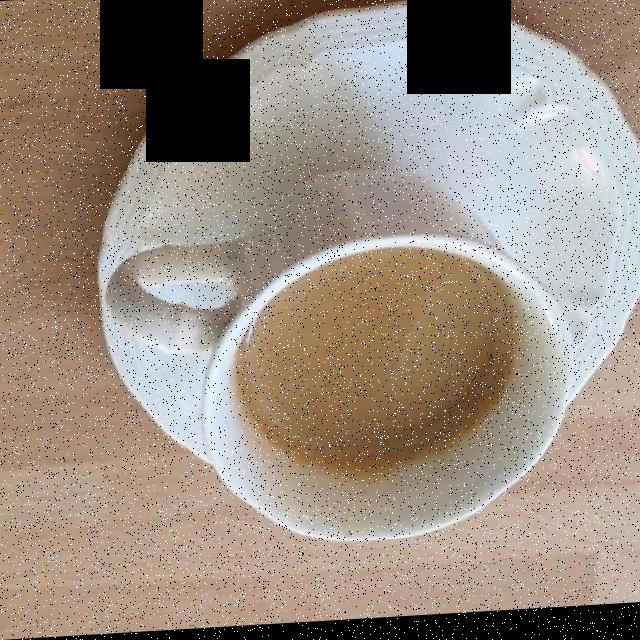coffee-with-caffeine: (240, 250, 517, 515)
